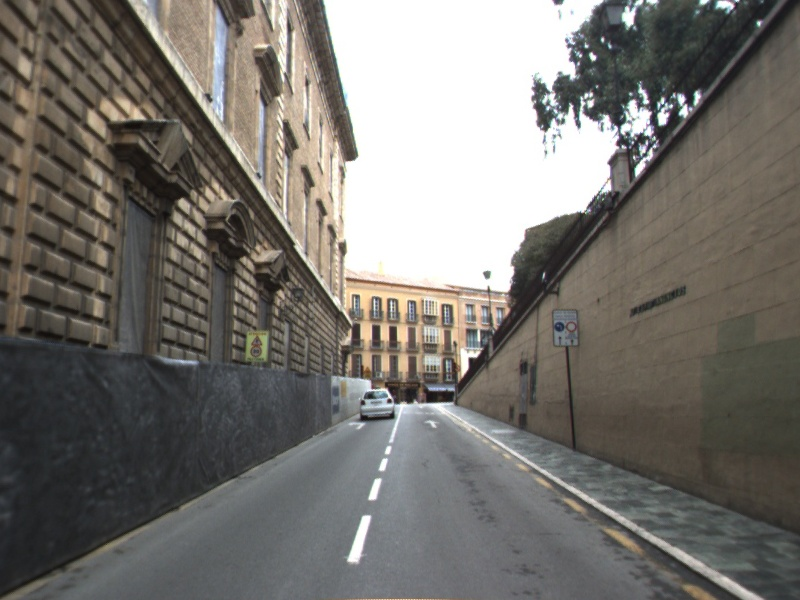LEFT: (346, 419, 368, 431)
STRAIGHT: (422, 418, 442, 430)
